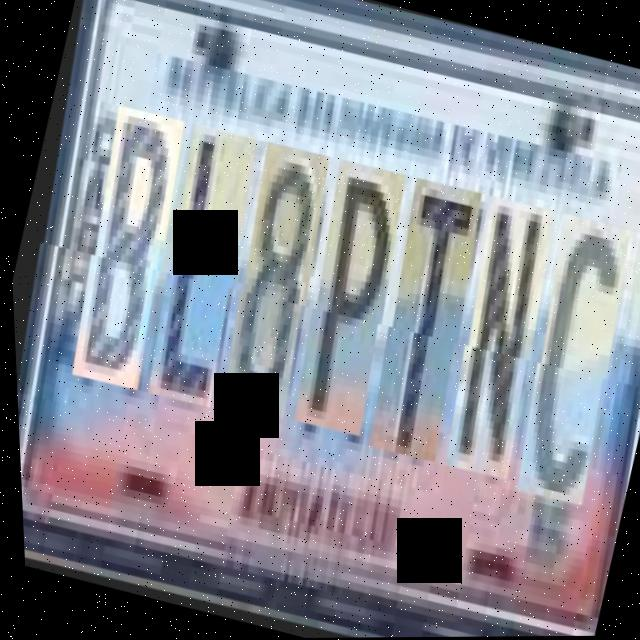8: (194, 141, 346, 419)
B: (45, 104, 202, 392)
C: (487, 213, 640, 509)
L: (120, 123, 274, 409)
N: (416, 196, 571, 482)
P: (267, 159, 422, 438)
T: (340, 178, 498, 465)
